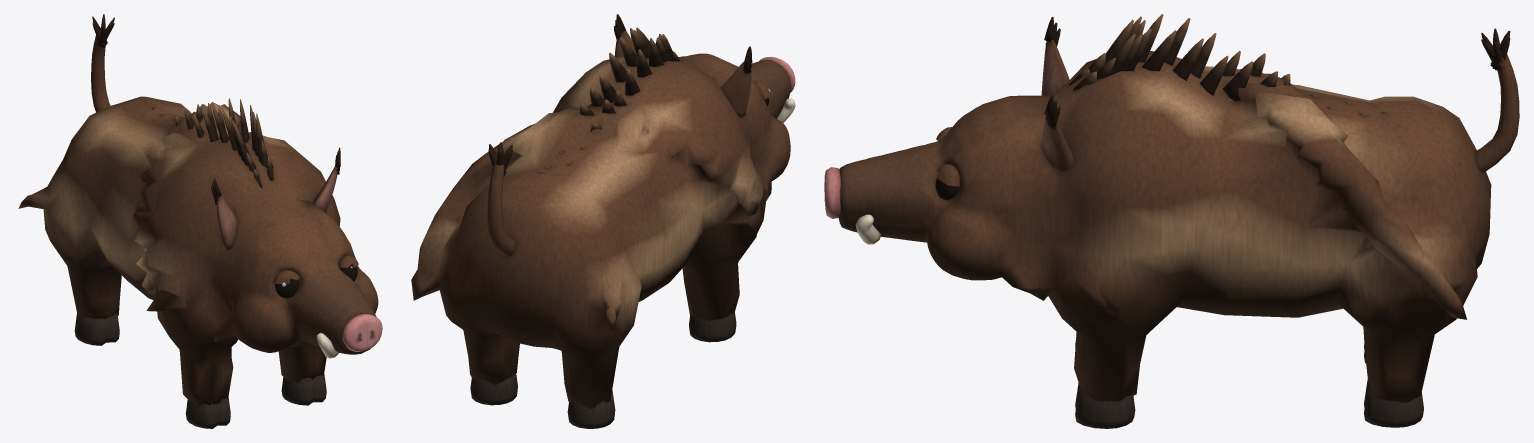
The model's file is boar.fbx.
3 renders of one model, left to right at view 1: azimuth 30°, elevation 25°; view 2: azimuth 150°, elevation 25°; view 3: azimuth 270°, elevation 25°, orthographic. The views are drawn at different scales.
Visible parts, largest first — view 1: Boar_Body, Boar_Eyes; view 2: Boar_Body; view 3: Boar_Body.
Part boxes in pixels (x1=…): Boar_Body: x1=18, y1=14, x2=382, y2=428; Boar_Eyes: x1=275, y1=263, x2=357, y2=298; Boar_Body: x1=411, y1=14, x2=795, y2=428; Boar_Body: x1=824, y1=14, x2=1519, y2=428.
Size of the model in its own units: 1.93 by 2.62 by 4.51.
2 materials, 1 textured.
